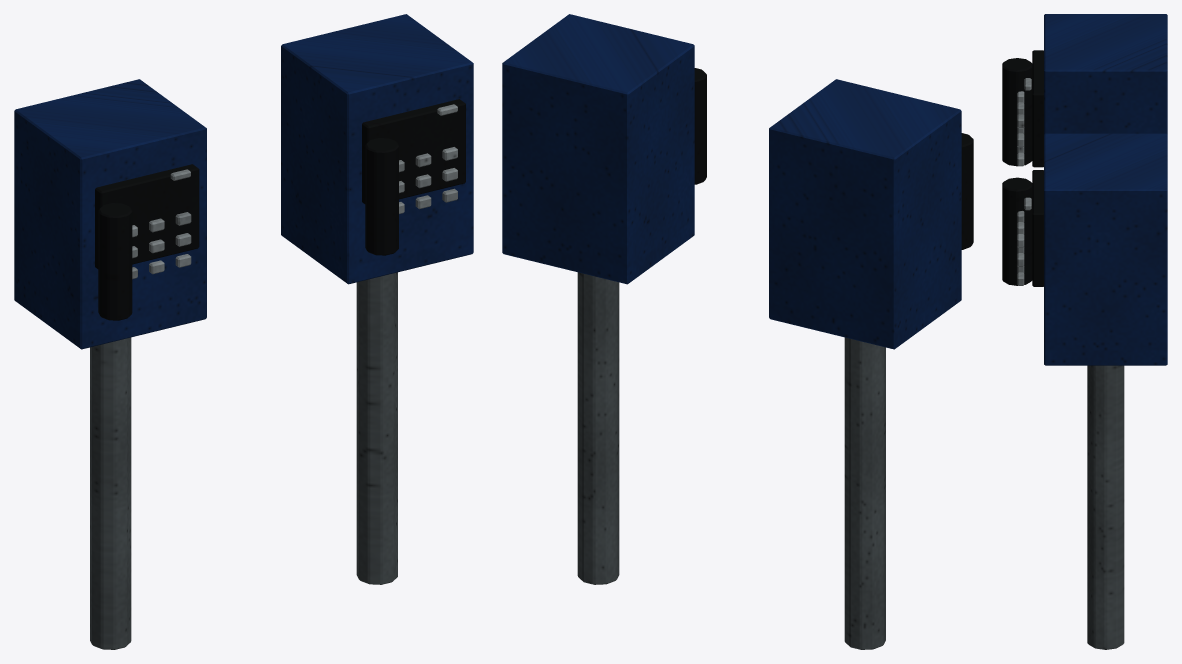
The model's file is PROP-A1C328826BD8_lod1.glb.
3 renders of one model, left to right at view 1: azimuth 30°, elevation 25°; view 2: azimuth 150°, elevation 25°; view 3: azimuth 270°, elevation 25°, orthographic. The views are drawn at different scales.
Visible parts, largest first — view 1: cabinet.011, fixture_post.006, recessed_front.011, handset.003, phone_keypad.003; view 2: cabinet.011, fixture_post.006, handset.003; view 3: cabinet.011, fixture_post.006, handset.003, recessed_front.011, phone_keypad.003.
Part boxes in pixels (<box>): cabinet.011: <box>14,14,473,349</box>; fixture_post.006: <box>90,272,397,649</box>; recessed_front.011: <box>95,99,465,268</box>; handset.003: <box>98,138,398,320</box>; phone_keypad.003: <box>132,147,457,279</box>; cabinet.011: <box>502,14,961,349</box>; fixture_post.006: <box>577,272,885,649</box>; handset.003: <box>694,68,973,249</box>; cabinet.011: <box>1044,14,1167,365</box>; fixture_post.006: <box>1087,365,1124,649</box>; handset.003: <box>1002,58,1032,285</box>; recessed_front.011: <box>1032,50,1043,286</box>; phone_keypad.003: <box>1017,91,1024,285</box>.
Size of the model in its own units: 1.18 by 1.5 by 0.4678.
Materials: 4 (4 with a texture image).
